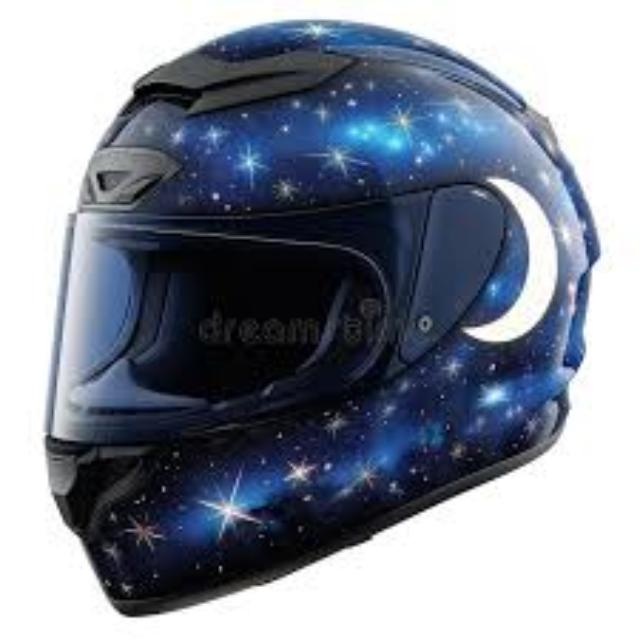motorcycle-helmets: (35, 8, 611, 622)
